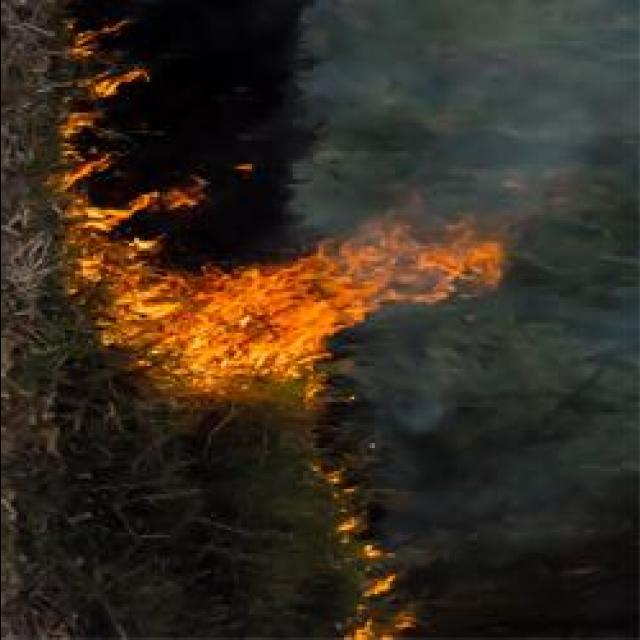fire: (200, 245, 392, 384)
